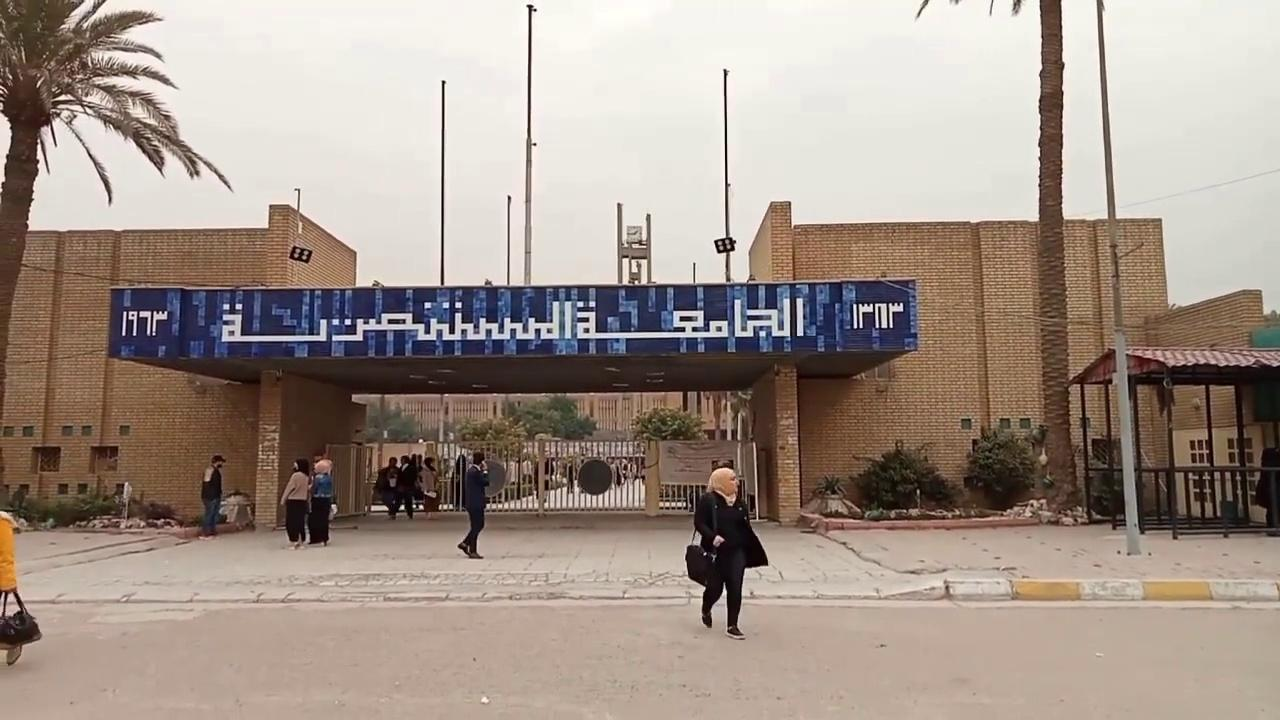car: (1080, 437, 1170, 517)
person: (693, 467, 768, 640), (456, 450, 490, 558), (279, 457, 313, 549), (307, 458, 335, 546), (197, 454, 225, 540), (391, 454, 417, 519), (376, 456, 400, 518), (417, 456, 439, 518)
tree: (0, 0, 233, 422), (914, 0, 1090, 514), (517, 393, 598, 489), (849, 438, 950, 510), (963, 424, 1040, 510), (453, 413, 528, 498), (519, 393, 598, 441), (625, 406, 704, 445)
